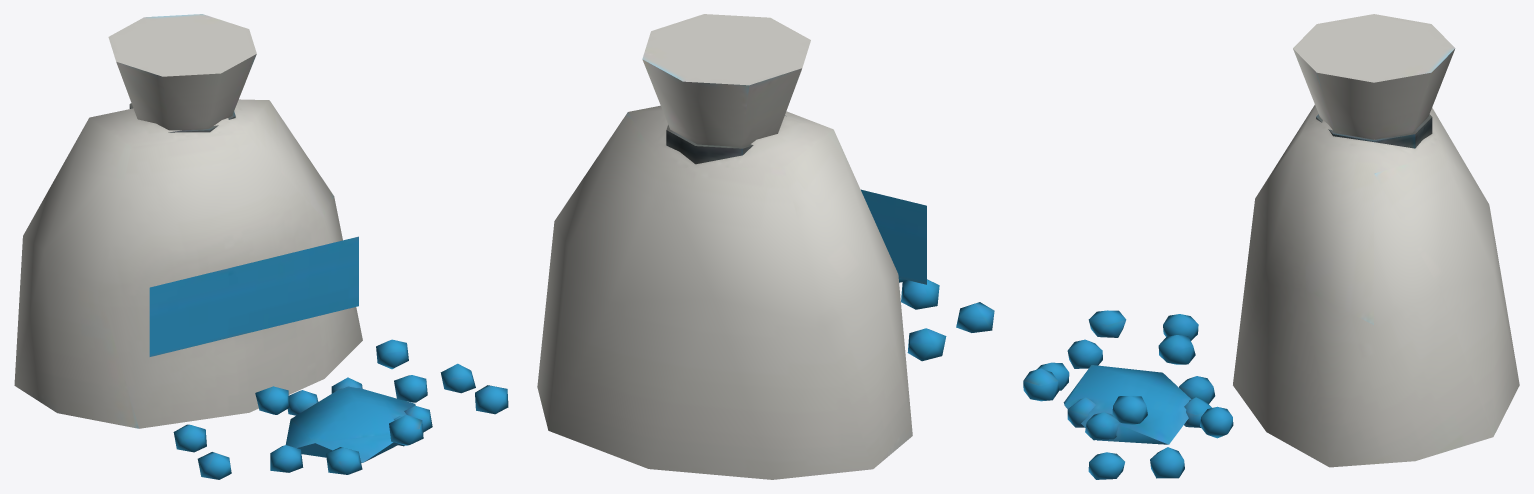
File: plastic.glb
The picture shows the model from 3 angles, left to right: view 1: azimuth 30°, elevation 25°; view 2: azimuth 150°, elevation 25°; view 3: azimuth 270°, elevation 25°; orthographic projection. The views are drawn at different scales.
Parts seen in each view (by area): view 1: te_res_plastic; view 2: te_res_plastic; view 3: te_res_plastic.
Part boxes in pixels (x1,y1,x2,y2): te_res_plastic: (14, 14, 508, 479); te_res_plastic: (537, 14, 994, 479); te_res_plastic: (1023, 14, 1519, 479).
Size of the model in its own units: 0.3648 by 0.32 by 0.4275.
Materials: 1 (1 with a texture image).
